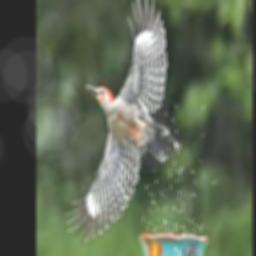Woodpecker: (65, 0, 176, 240)
